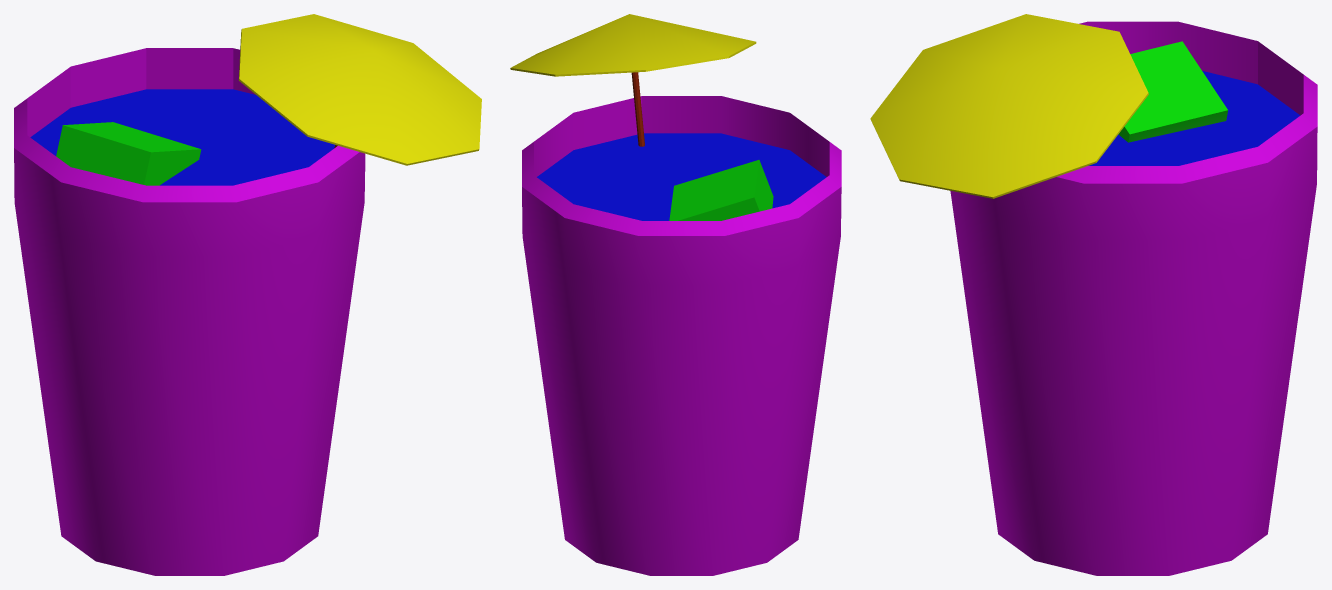
File: Blender.fbx
The picture shows the model from 3 angles, left to right: view 1: azimuth 30°, elevation 25°; view 2: azimuth 150°, elevation 25°; view 3: azimuth 270°, elevation 25°; orthographic projection. The views are drawn at different scales.
Parts seen in each view (by area): view 1: CUBATA; view 2: CUBATA; view 3: CUBATA.
Part boxes in pixels (x1,y1,x2,y2): CUBATA: (14,14,481,575); CUBATA: (510,14,841,575); CUBATA: (870,14,1317,575).
Bounding box in the file's own units: 0.3897 × 0.4808 × 0.3806.
